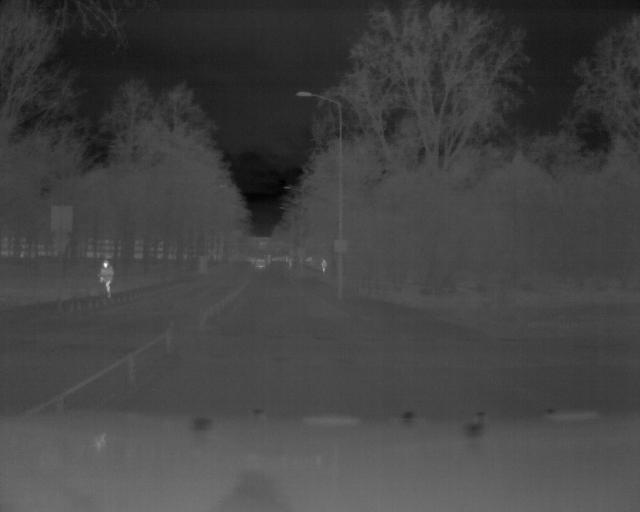person: (96, 256, 117, 302), (316, 256, 329, 276)
